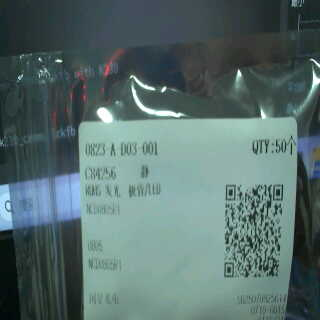LED: (100, 182, 166, 200)
